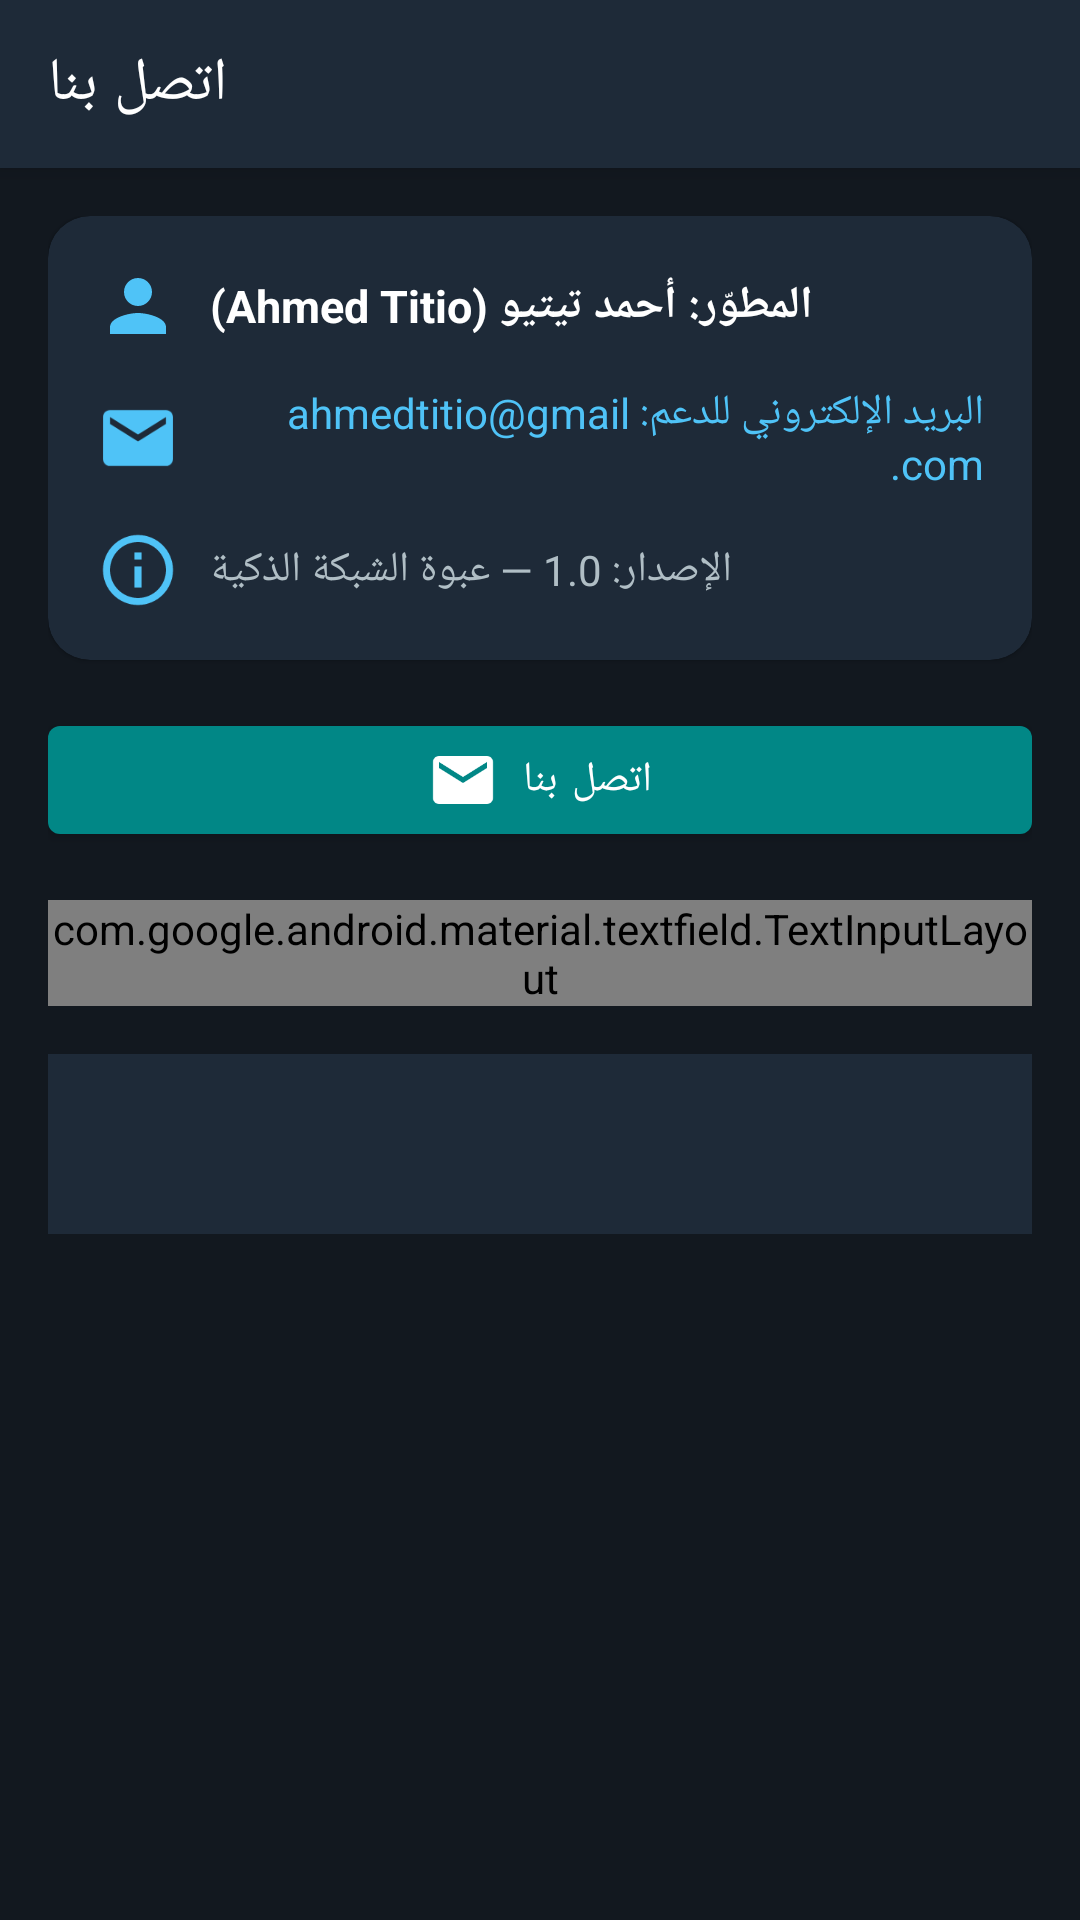

Icon click points for this 1080 × 1920 phone screenshot, format [x,y]:
email: [138,438]
عن التطبيق: [138,570]
